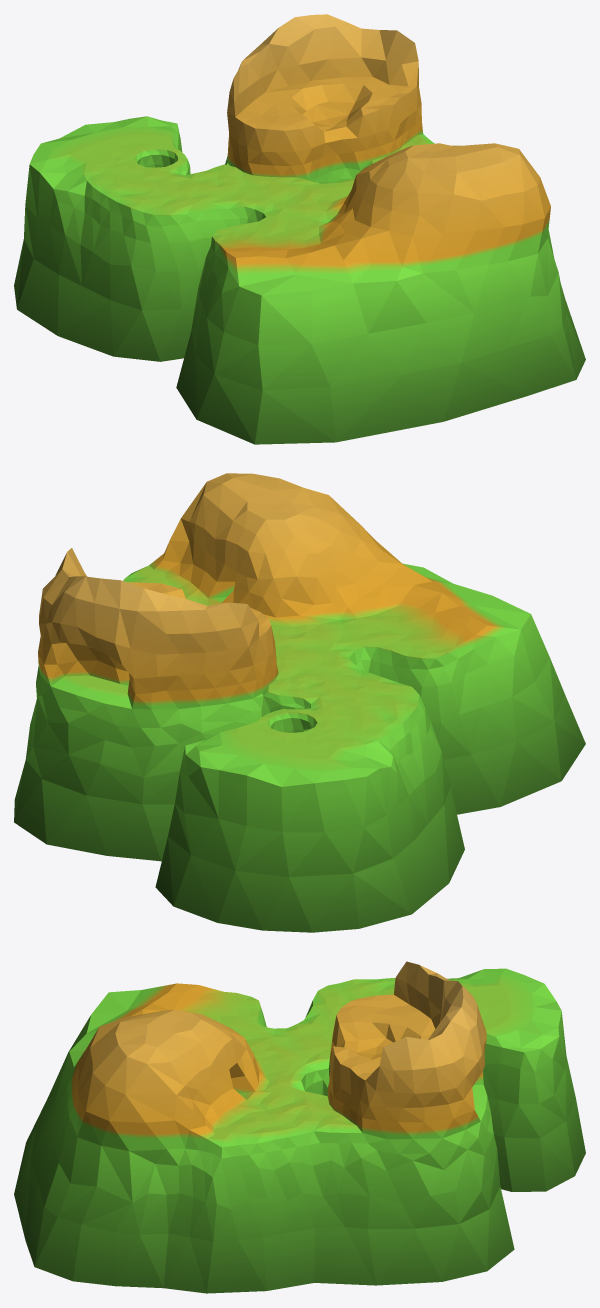
File: Terrain2.fbx
3 views of the same model, one above another, from view 1: azimuth 30°, elevation 25°; view 2: azimuth 150°, elevation 25°; view 3: azimuth 270°, elevation 25° (orthographic). The views are drawn at different scales.
Visible parts, largest first — view 1: Terrain; view 2: Terrain; view 3: Terrain.
Part boxes in pixels (bbox=[...]): Terrain: bbox=[14, 14, 585, 444]; Terrain: bbox=[14, 473, 585, 932]; Terrain: bbox=[14, 961, 585, 1293].
Bounding box in the file's own units: 8265 × 4578 × 9804.
